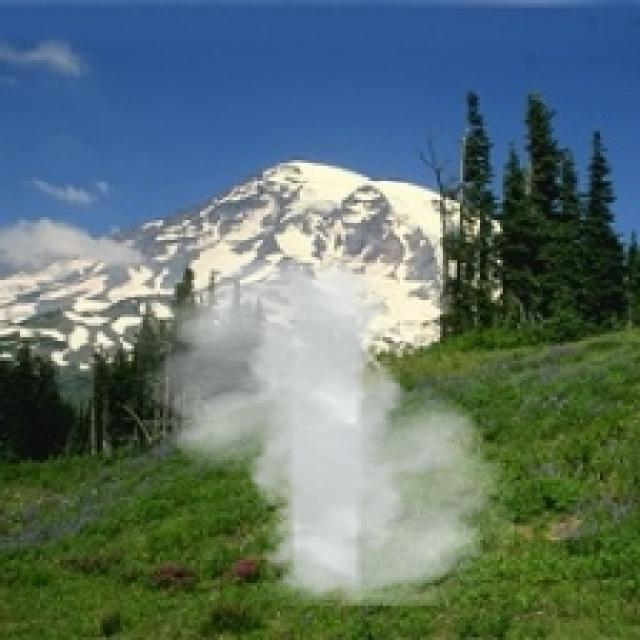Smoke: (137, 260, 514, 606)
